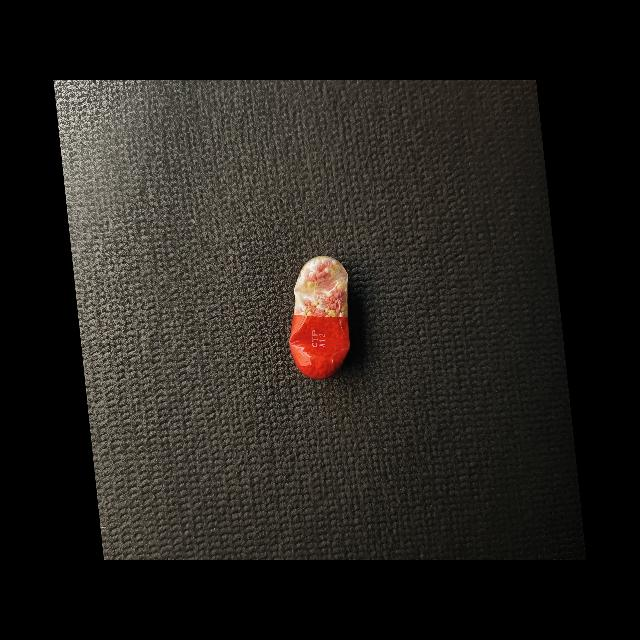Defective Capsule: (289, 256, 350, 380)
